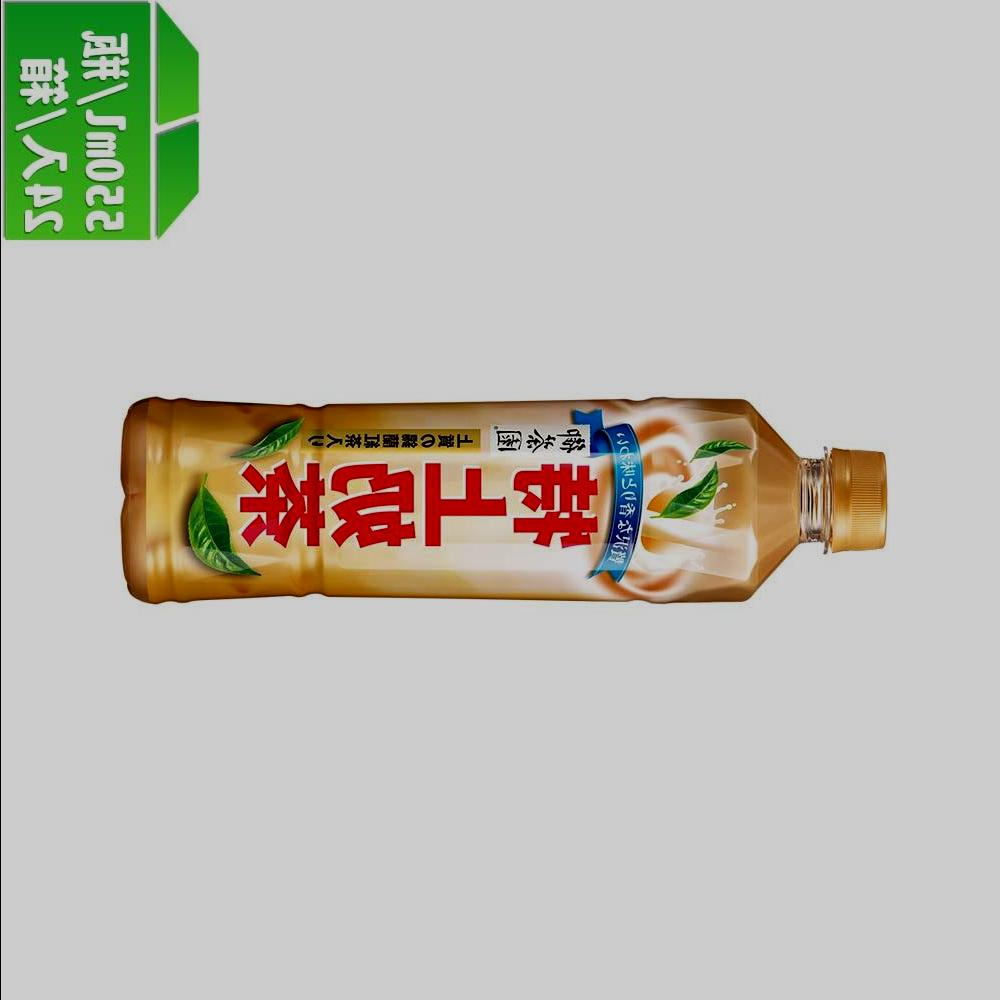bottle: (115, 881, 905, 1000)
